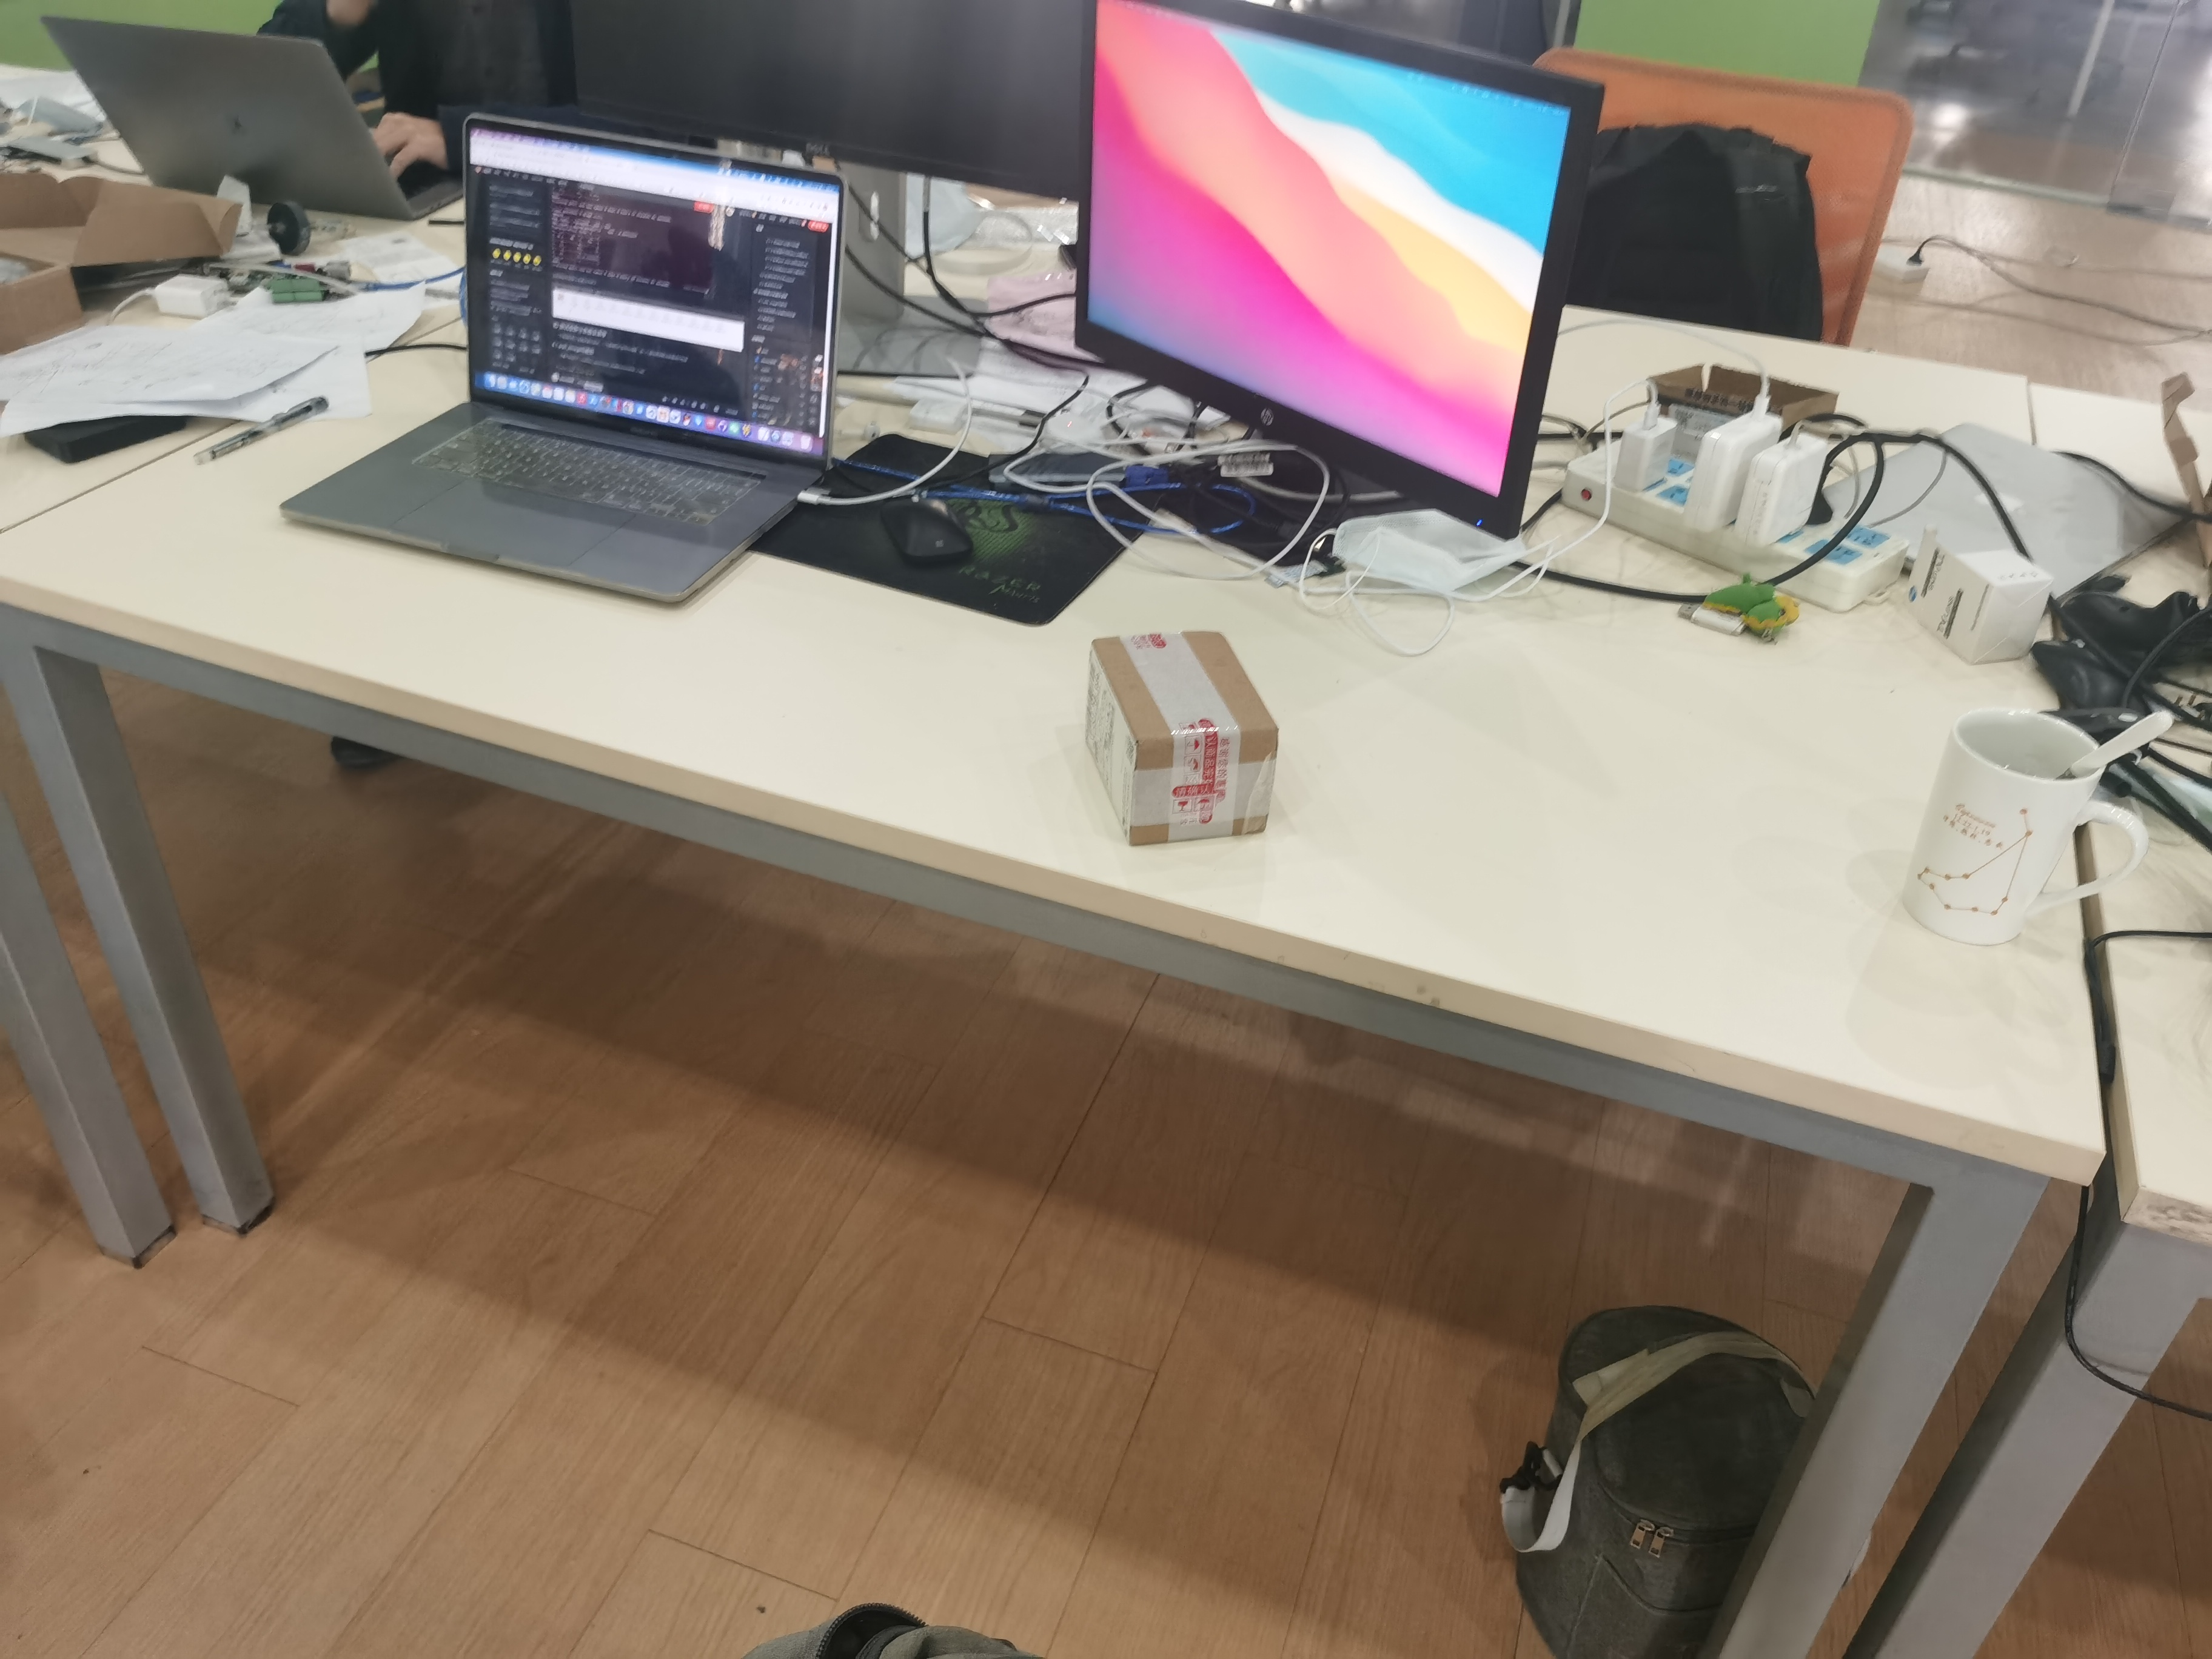box: (1076, 627, 1287, 859)
